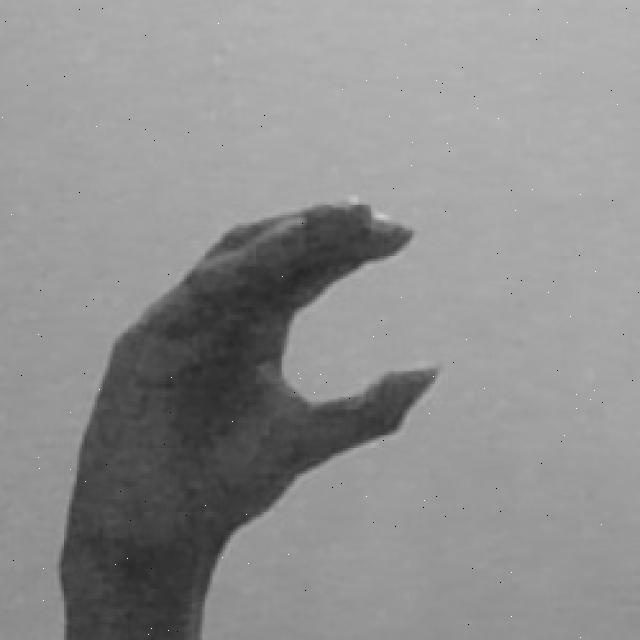C: (60, 196, 445, 640)
